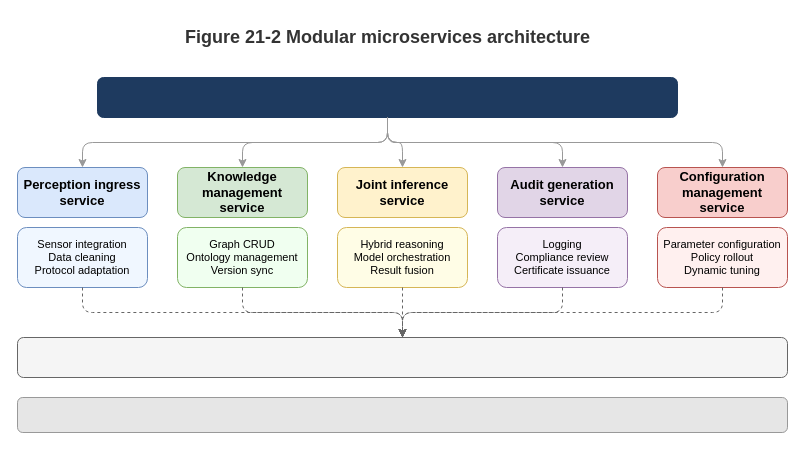
Image size: 805x450. Some labels were removed from this diagram. Here are the shapes that lost their labels. From the top down, the centre of each, then its label:
At point 387,97: "API gateway".
At point 402,357: "Message bus / event-driven layer (Kafka / RabbitMQ)".
At point 402,414: "Persistence layer (graph DB · relational DB · object storage)".
